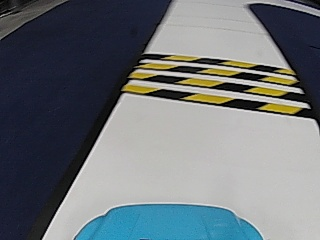bump: (147, 54, 281, 113)
